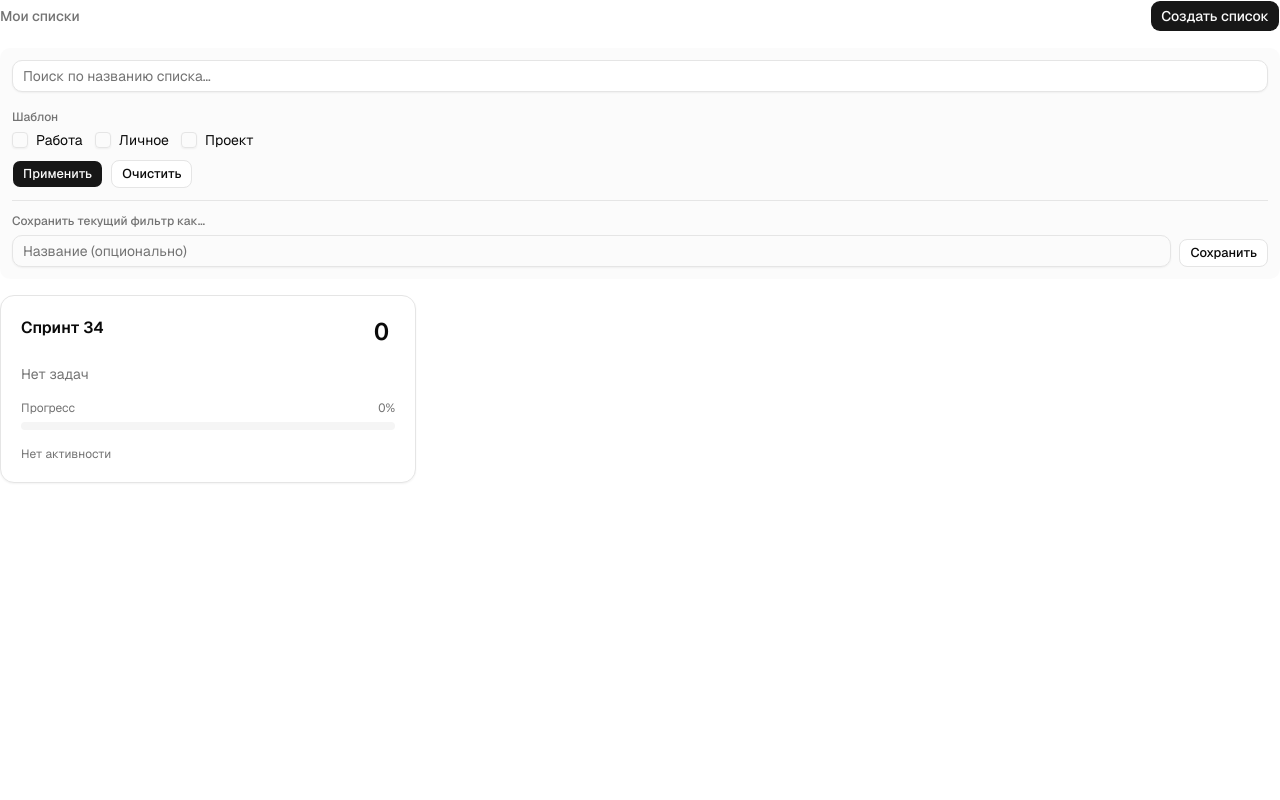
Test case: DashboardListsPanel › adds the newly created list to the dashboard without a page reload
Click the button "Создать список" at (1215, 16), box x1=1150 y1=0 x2=1279 y2=32
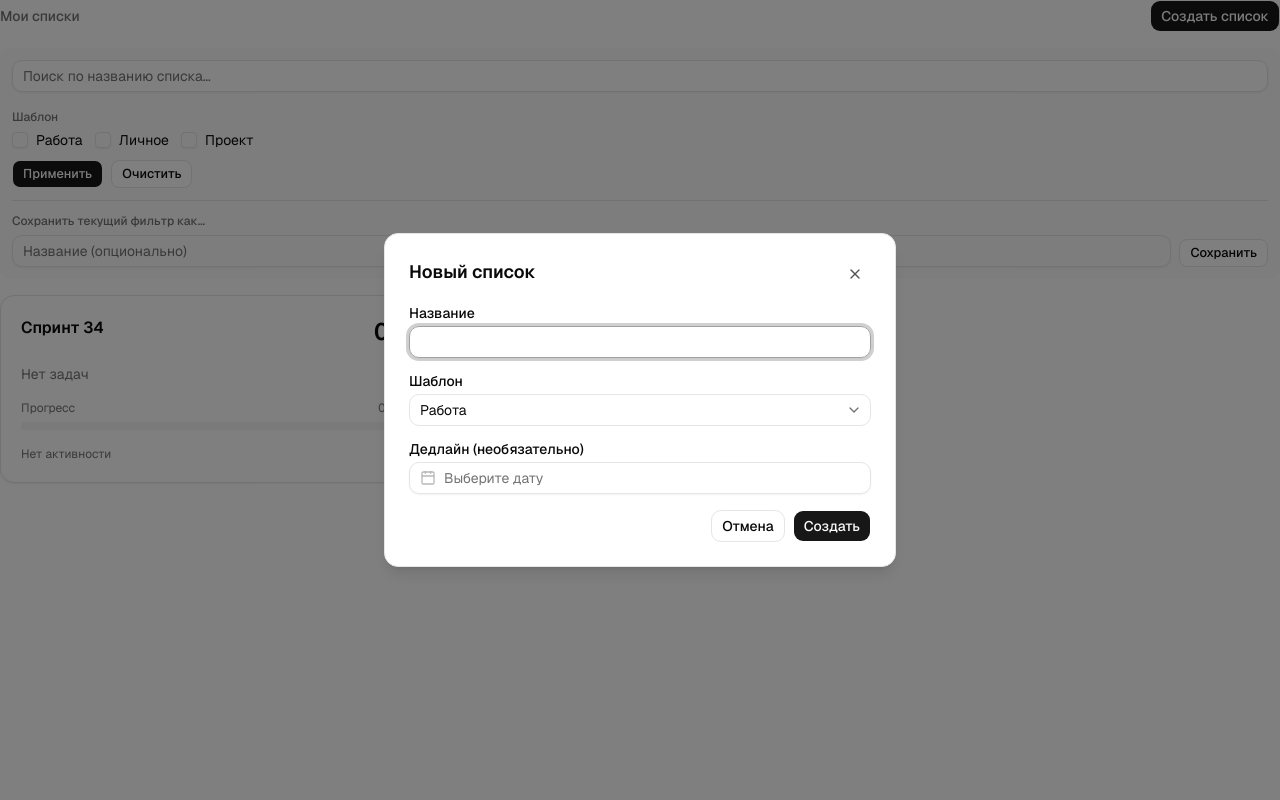
Type "Brand new list" into the field labelled "Название" at (640, 342), box x1=409 y1=326 x2=871 y2=358
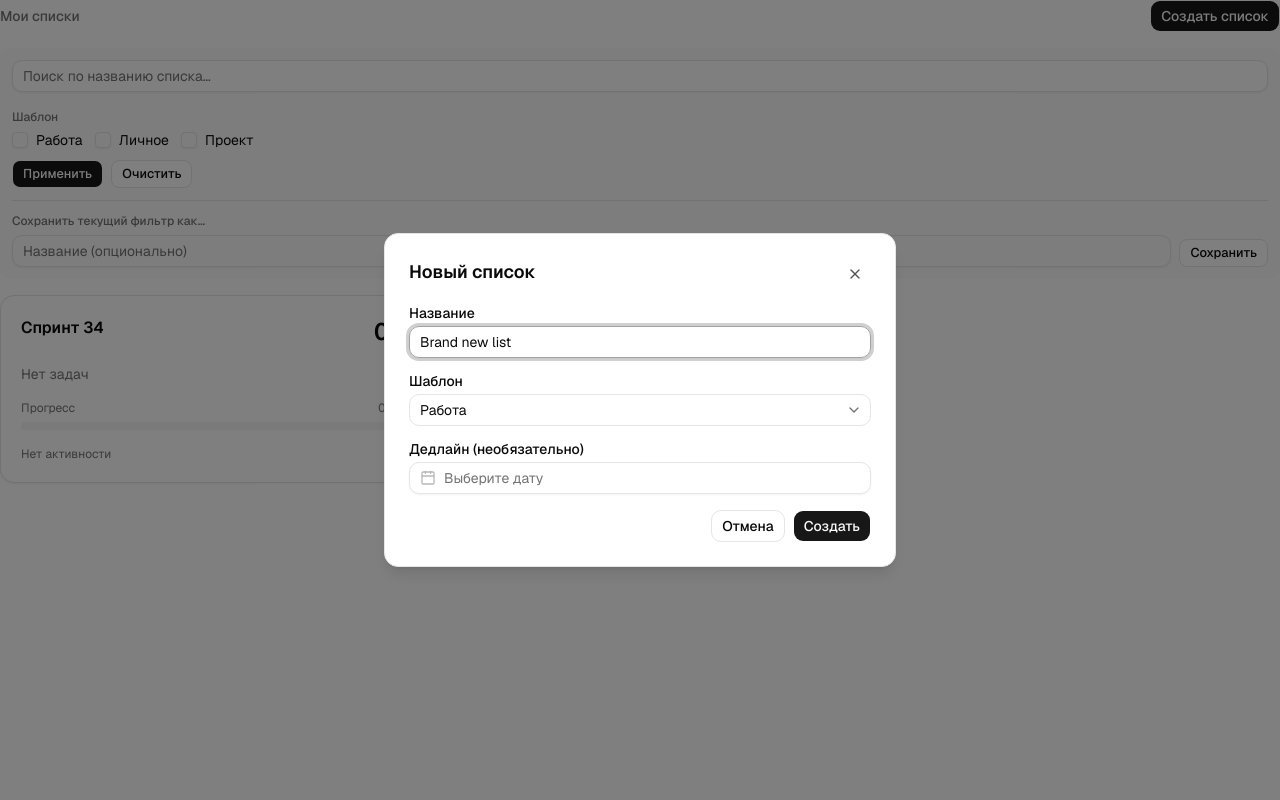
Click the button "Создать" at (832, 526), box x1=793 y1=510 x2=871 y2=542
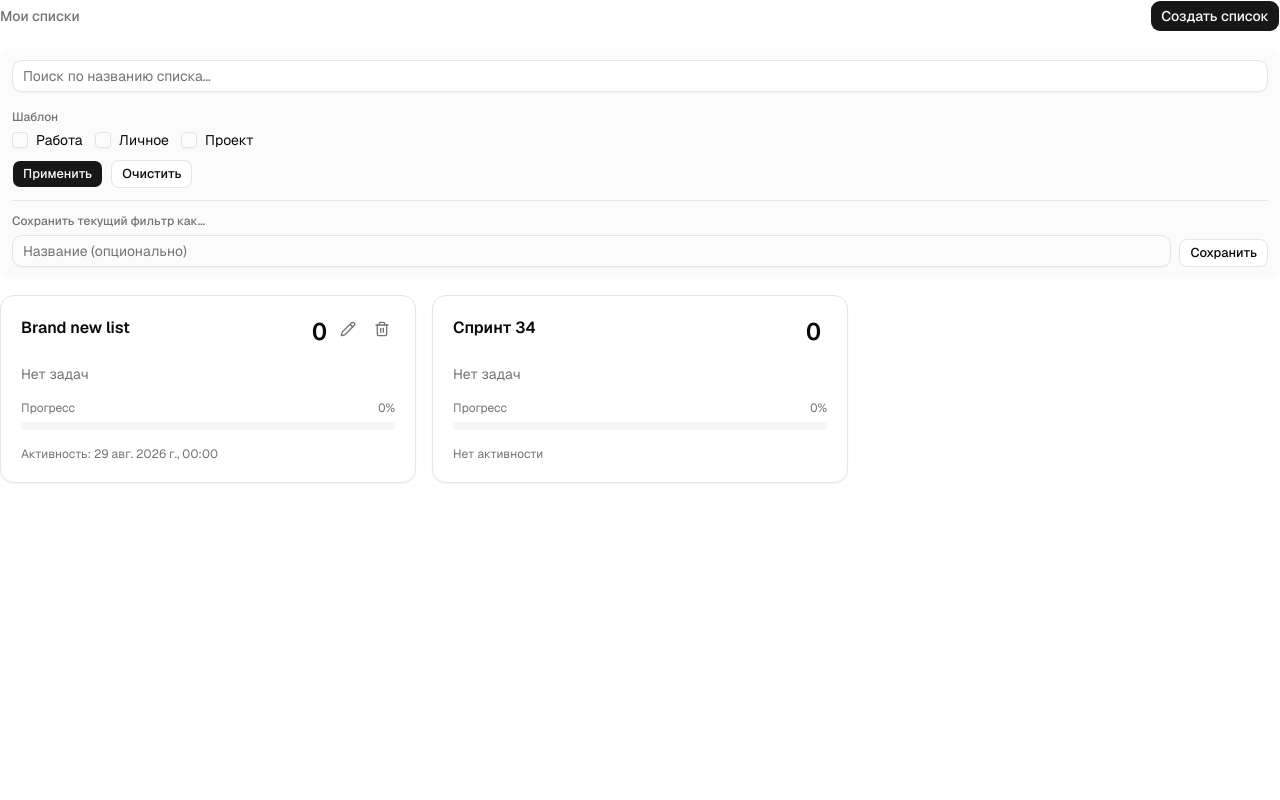
Check: the heading "Спринт 34" is shown, box x1=453 y1=316 x2=536 y2=340
Check: the heading "Brand new list" is shown, box x1=21 y1=316 x2=130 y2=340
Check: the number of links with test id "list-card" is 2, box x1=0 y1=295 x2=416 y2=483; x1=432 y1=295 x2=848 y2=483
